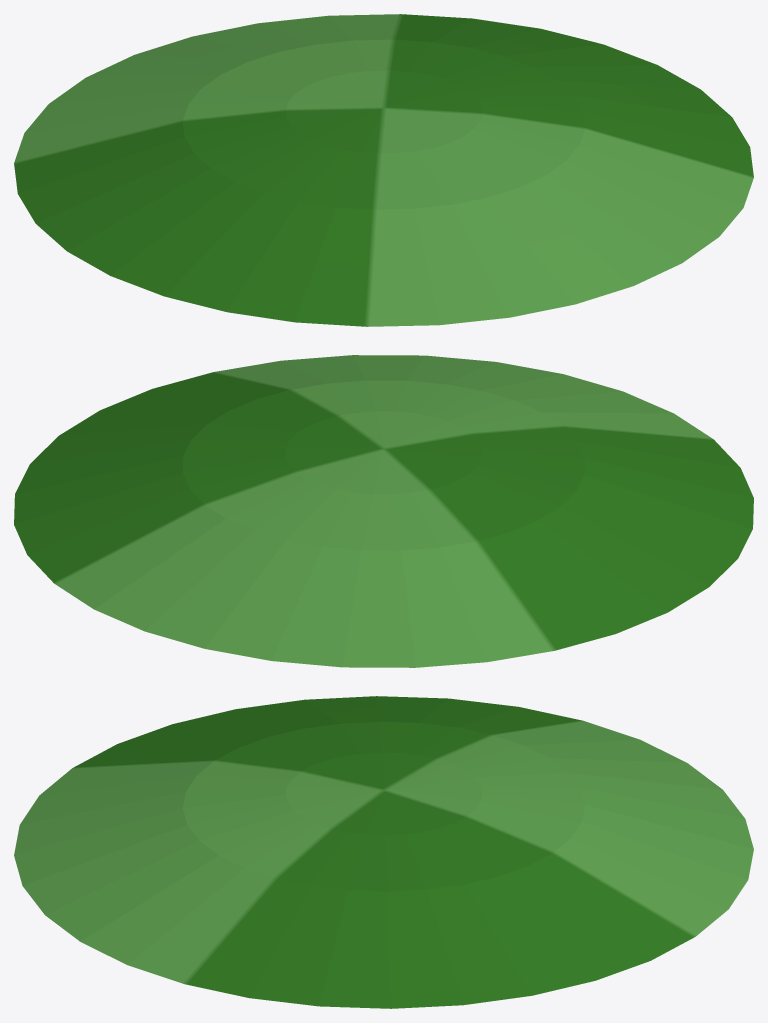
The model's file is Mini Golf Hole Cover.fbx.
3 views of the same model, one above another, from view 1: azimuth 30°, elevation 25°; view 2: azimuth 150°, elevation 25°; view 3: azimuth 270°, elevation 25° (orthographic).
Parts seen in each view (by area): view 1: Hole Cover; view 2: Hole Cover; view 3: Hole Cover.
Boxes of the visible parts, x1,y1,x2,y2 form: Hole Cover: (14, 14, 753, 326); Hole Cover: (14, 355, 753, 667); Hole Cover: (14, 696, 753, 1008).
Size of the model in its own units: 198 by 18.39 by 198.
